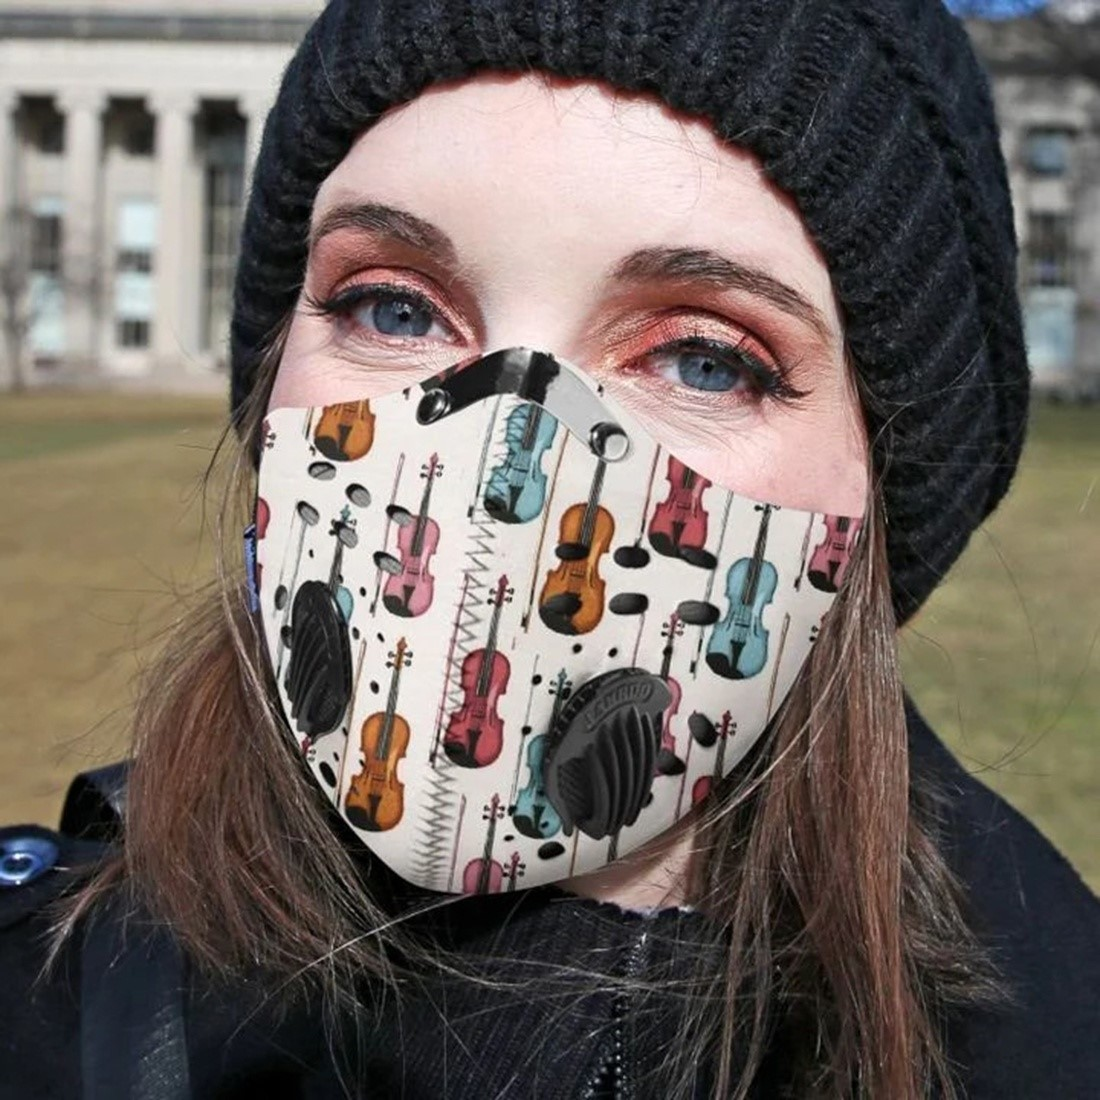face_with_mask: (226, 0, 1008, 906)
